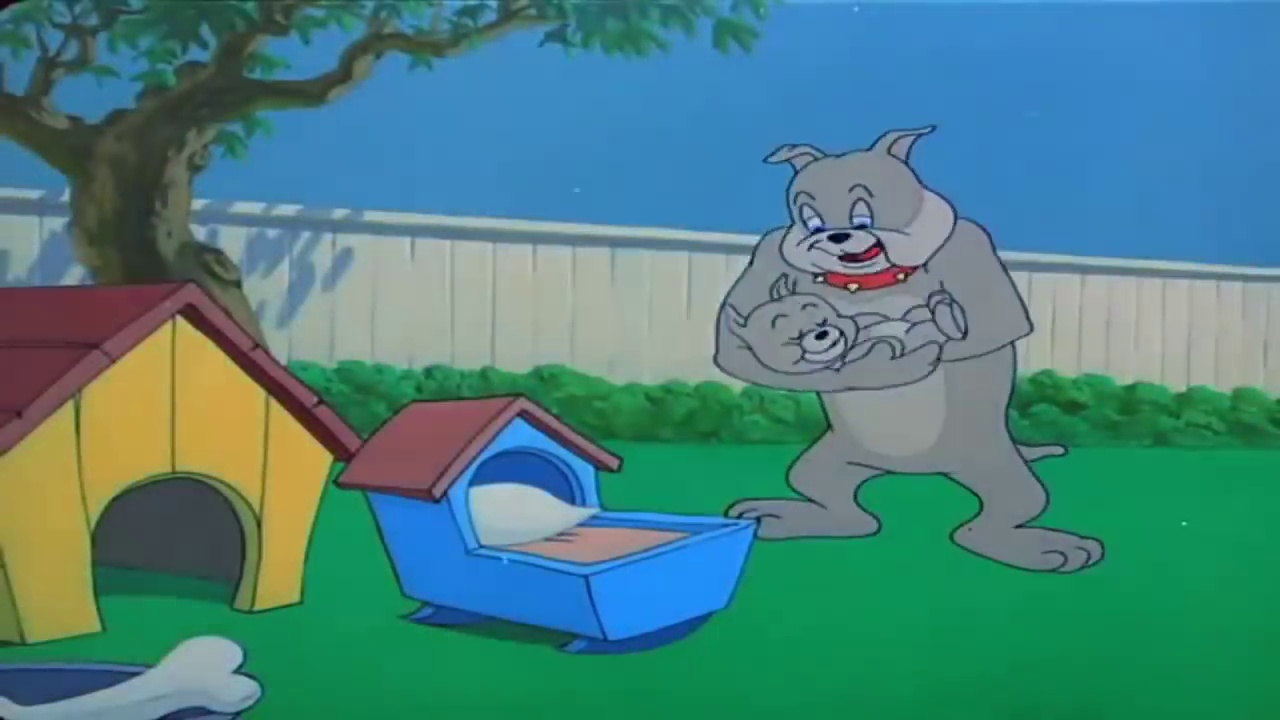spike: (765, 123, 957, 298)
